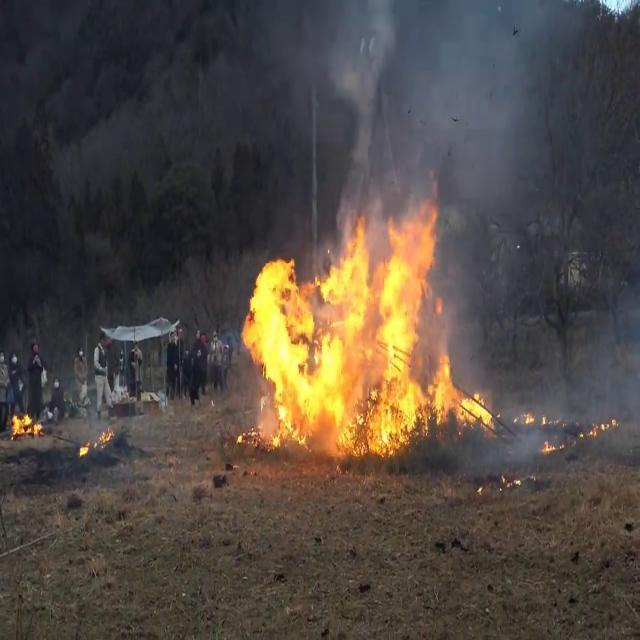Fire: (234, 195, 492, 457), (9, 406, 44, 437), (585, 410, 621, 440)
Smoke: (323, 0, 575, 236)
